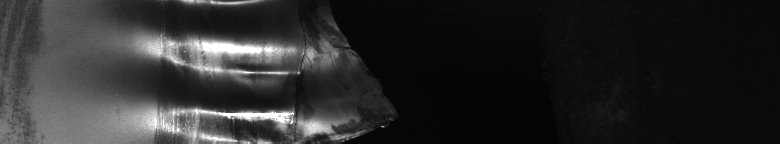ke: (149, 0, 340, 144)
